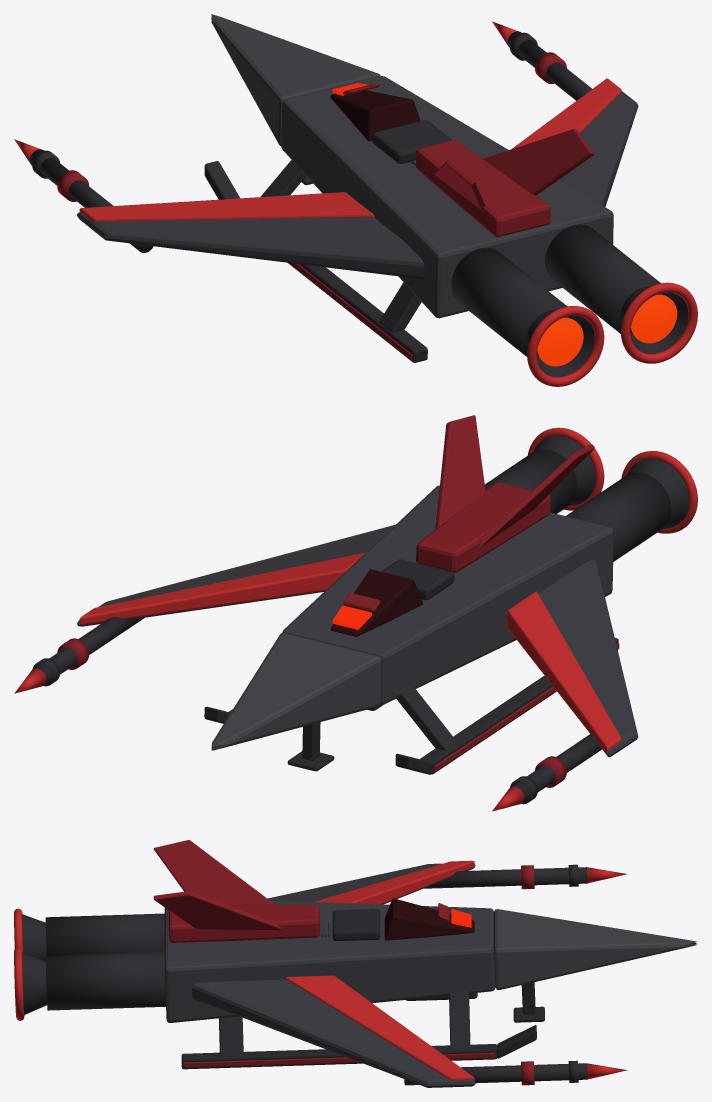
File: raider.glb
3 renders of one model, top to bottom at view 1: azimuth 30°, elevation 25°; view 2: azimuth 150°, elevation 25°; view 3: azimuth 270°, elevation 25°, orthographic. The views are drawn at different scales.
Visible parts, largest first — view 1: Merged_EngineIron, Merged_GunmetalBody, Merged_GunmetalWing, Merged_DriedRed, Merged_BloodRed, Nose, Canopy, ThrusterR, ThrusterL; view 2: Merged_GunmetalBody, Merged_EngineIron, Merged_BloodRed, Merged_DriedRed, Merged_GunmetalWing, Nose, Canopy, CanopyVisor; view 3: Merged_EngineIron, Merged_GunmetalBody, Merged_DriedRed, Merged_GunmetalWing, Nose, Merged_BloodRed, Canopy.
Part boxes in pixels (x1=…): Merged_EngineIron: x1=29, y1=31, x2=688, y2=377; Merged_GunmetalBody: x1=281, y1=76, x2=613, y2=318; Merged_GunmetalWing: x1=77, y1=91, x2=638, y2=279; Merged_DriedRed: x1=57, y1=52, x2=594, y2=360; Merged_BloodRed: x1=79, y1=78, x2=697, y2=386; Nose: x1=211, y1=14, x2=380, y2=145; Canopy: x1=330, y1=90, x2=420, y2=141; ThrusterR: x1=631, y1=294, x2=677, y2=343; ThrusterL: x1=537, y1=317, x2=583, y2=366; Merged_GunmetalBody: x1=282, y1=485, x2=613, y2=704; Merged_EngineIron: x1=32, y1=435, x2=689, y2=804; Merged_BloodRed: x1=79, y1=427, x2=697, y2=754; Merged_DriedRed: x1=57, y1=415, x2=619, y2=787; Merged_GunmetalWing: x1=77, y1=524, x2=638, y2=757; Nose: x1=211, y1=633, x2=381, y2=750; Canopy: x1=330, y1=569, x2=423, y2=636; CanopyVisor: x1=332, y1=605, x2=371, y2=629; Merged_EngineIron: x1=22, y1=864, x2=587, y2=1085; Merged_GunmetalBody: x1=164, y1=900, x2=495, y2=1022; Merged_DriedRed: x1=153, y1=840, x2=534, y2=1085; Merged_GunmetalWing: x1=192, y1=863, x2=475, y2=1087; Nose: x1=494, y1=909, x2=697, y2=989; Merged_BloodRed: x1=14, y1=860, x2=474, y2=1081; Canopy: x1=384, y1=898, x2=474, y2=940.
Size of the model in its own units: 5.7 by 1.96 by 7.47.
